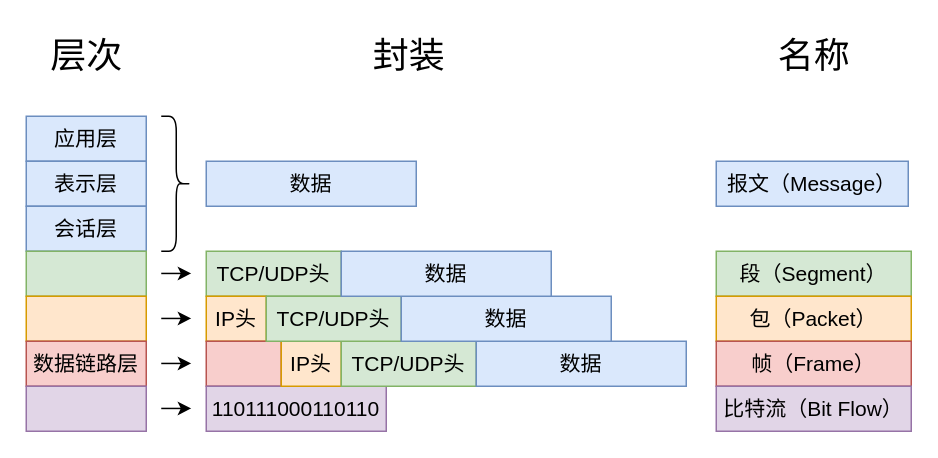
Image size: 938x458. Some labels were removed from this diagram. The centre of each missing label's shape, as x and y in pixels:
"MAC" belongs at [243,363].
"传输层" belongs at [85,273].
"物理层" belongs at [85,408].
"网络层" belongs at [85,318].
